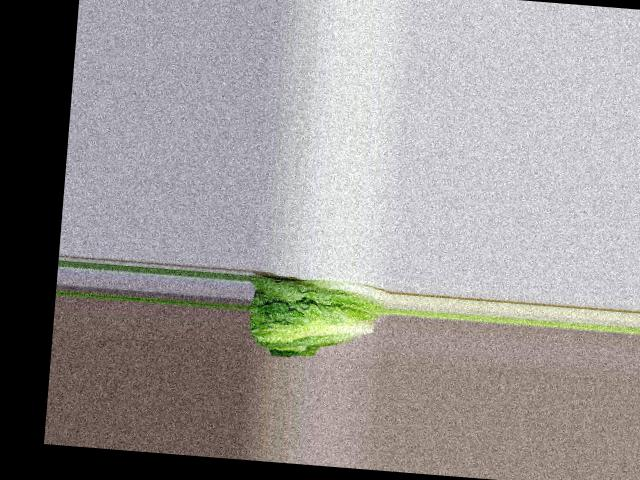lettuce: (245, 270, 384, 354)
